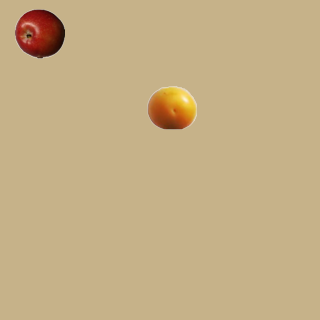Apple Braeburn: (14, 8, 64, 58)
Cherry Wax Yellow: (146, 82, 196, 132)
